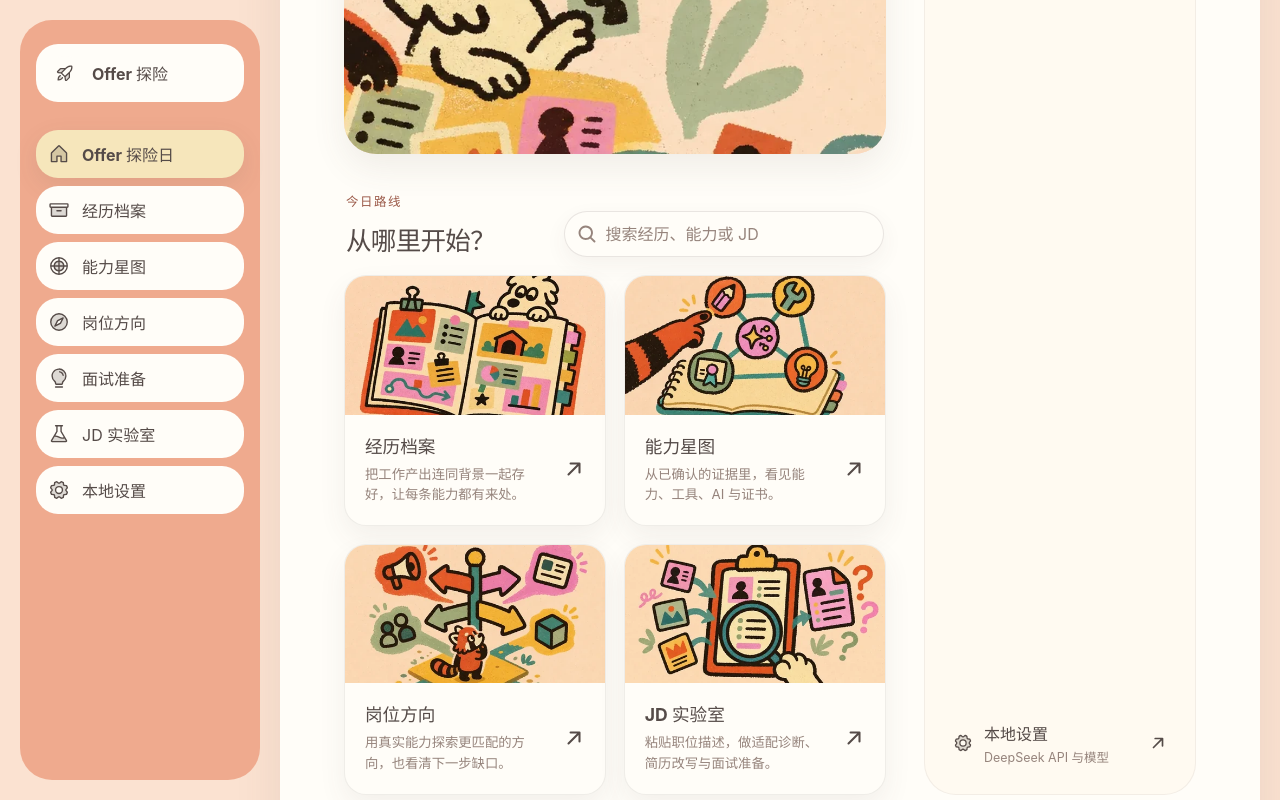
Test: navigation › opens the correct dashboard card for 进入能力星图
The width and height of the screenshot is (1280, 800).
(page scrolled)
Click the link with aria-label "进入能力星图": {"x": 755, "y": 400} [624,275,886,526]
(page scrolled)
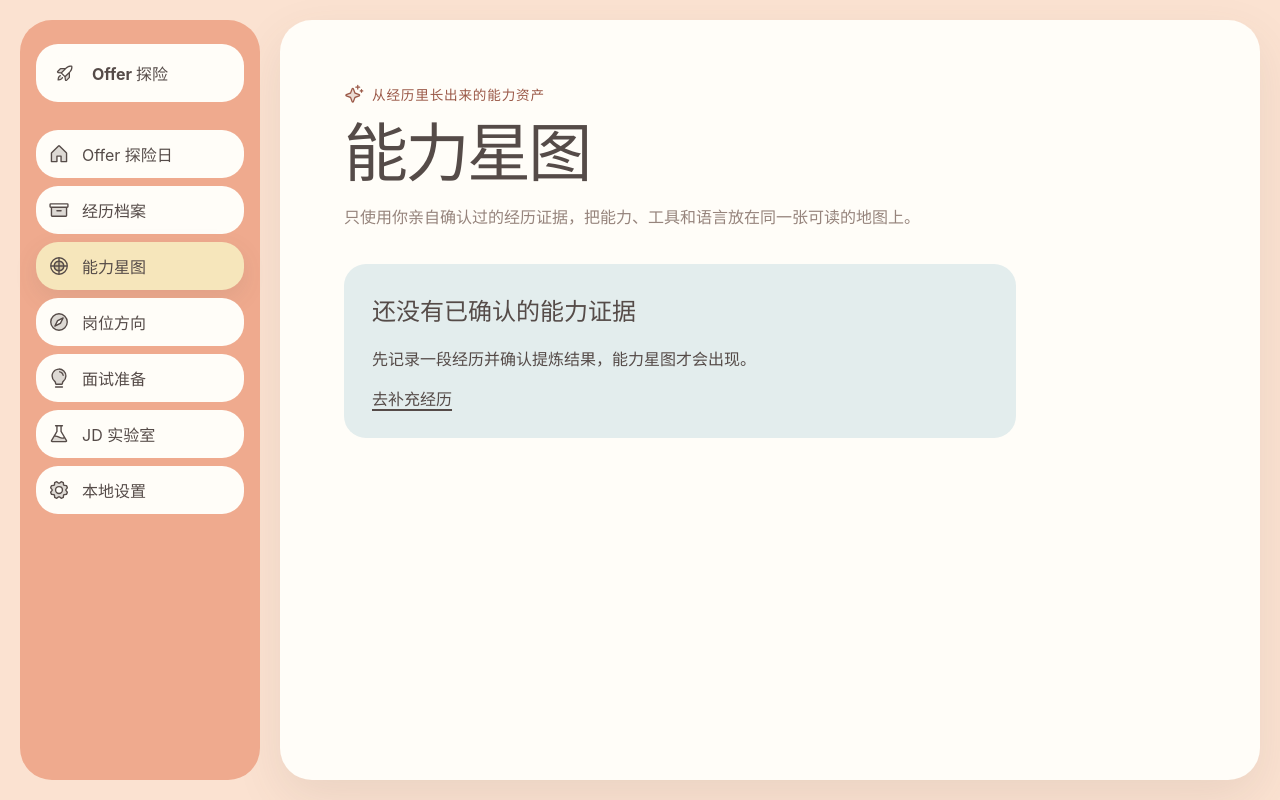
Now the heading "能力星图" is shown, box [344,114,590,191]
